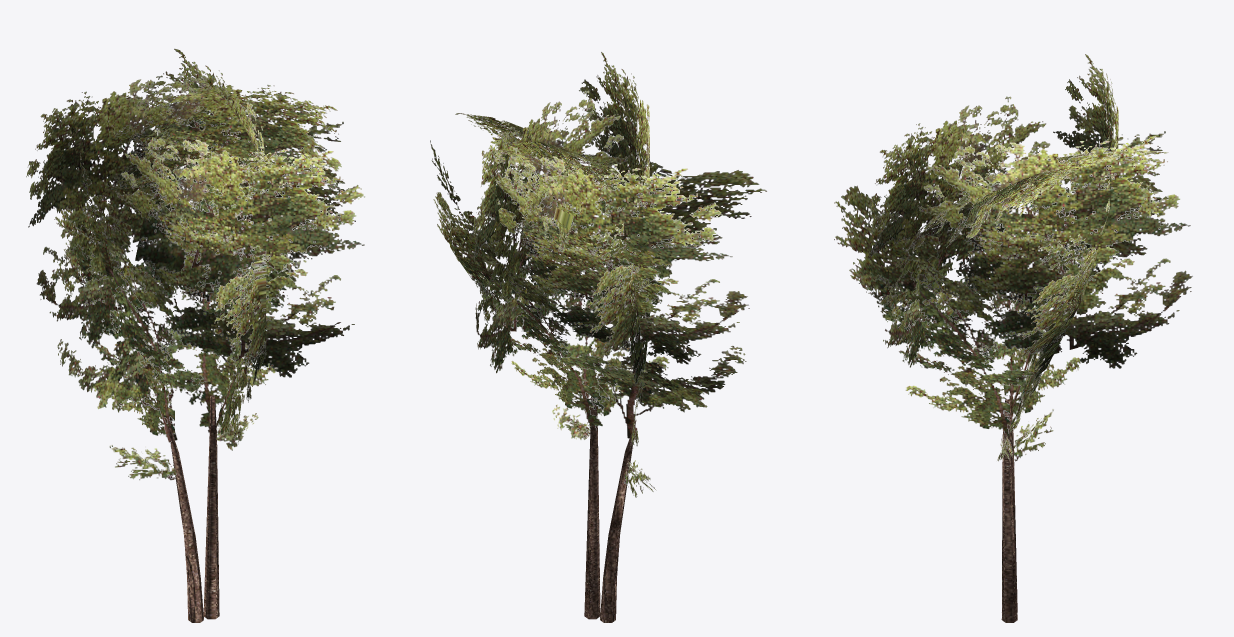
The model's file is SM_Tree_01.fbx.
3 views of the same model, side by side, from view 1: azimuth 30°, elevation 25°; view 2: azimuth 150°, elevation 25°; view 3: azimuth 270°, elevation 25° (orthographic).
Visible parts, largest first — view 1: Tree_01; view 2: Tree_01; view 3: Tree_01.
Boxes of the visible parts, x1,y1,x2,y2 form: Tree_01: (26, 48, 365, 622); Tree_01: (430, 52, 766, 622); Tree_01: (834, 54, 1192, 622).
Bounding box in the file's own units: 483 × 491 × 725.
